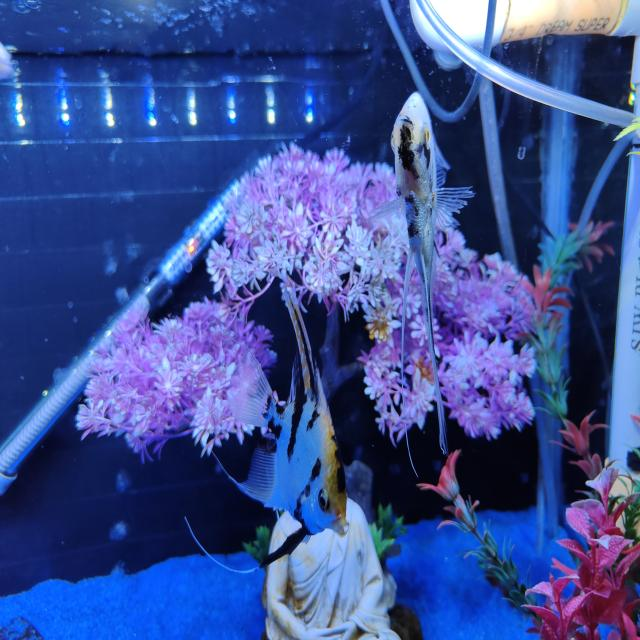Fish: (370, 92, 473, 454), (228, 289, 348, 568), (0, 43, 14, 79)
